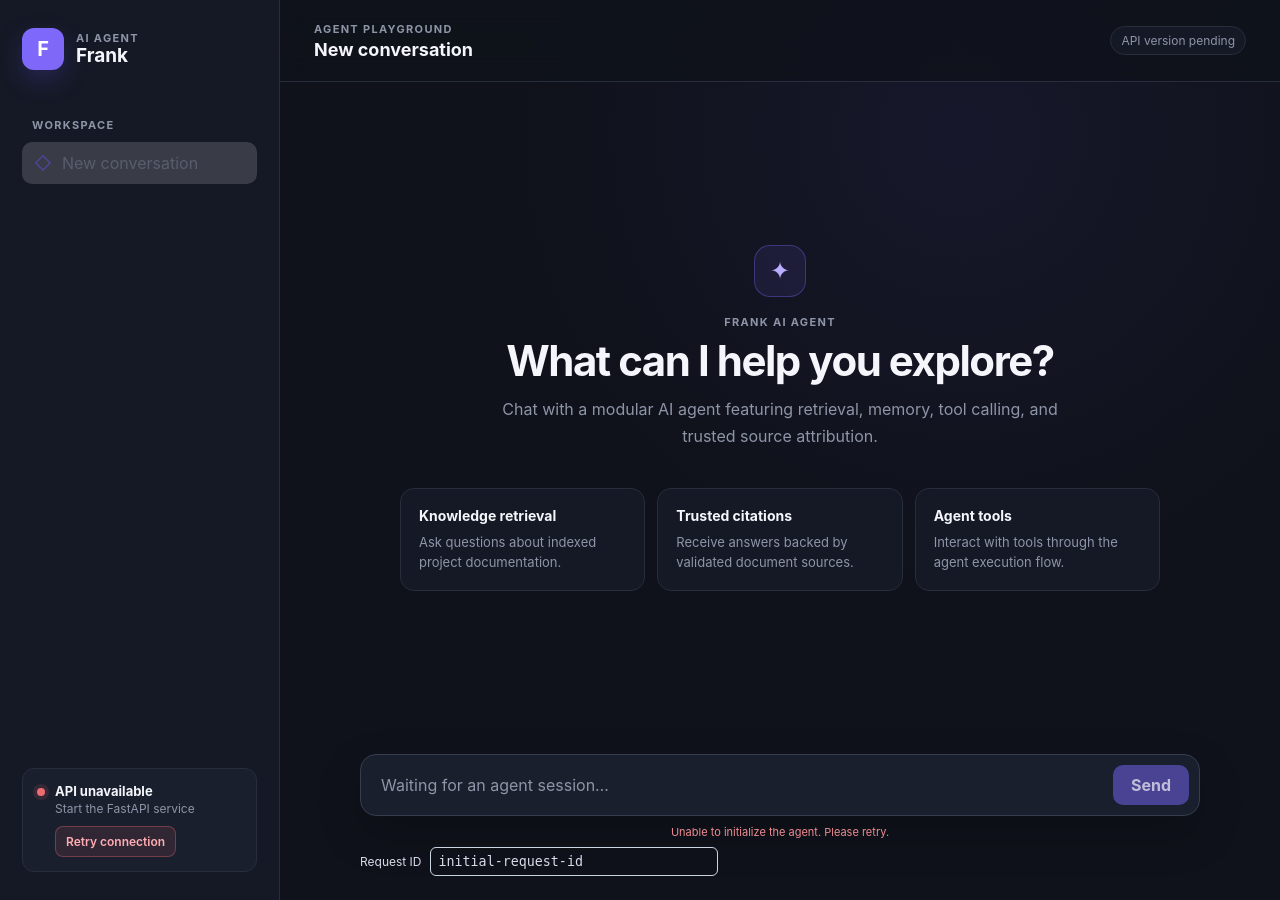
Test: App › should update initialization diagnostics after retrying fails with an API error with a request ID
Check: the field labelled "Request ID" holds "initial-request-id", box [430, 847, 718, 876]
Click the button "Retry connection" at x=116, y=842, box [55, 826, 176, 857]
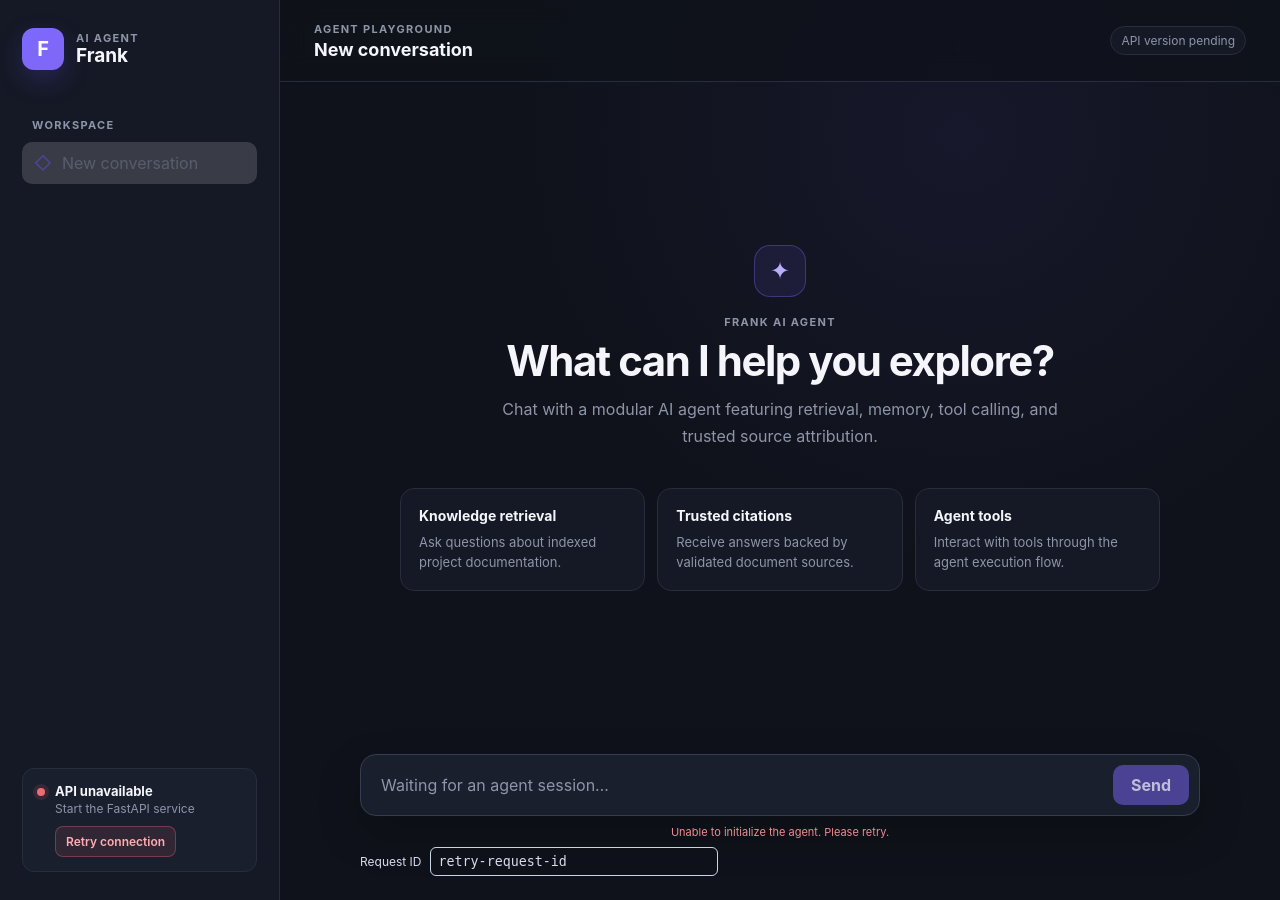
Check: the text "API unavailable" is shown, box [55, 783, 153, 799]
Check: the field labelled "Request ID" holds "retry-request-id", box [430, 847, 718, 876]
